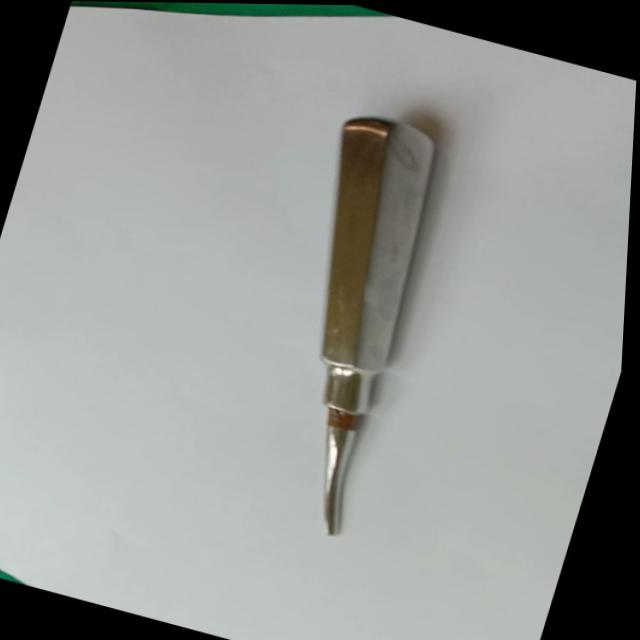Coupland1: (210, 91, 480, 545)
